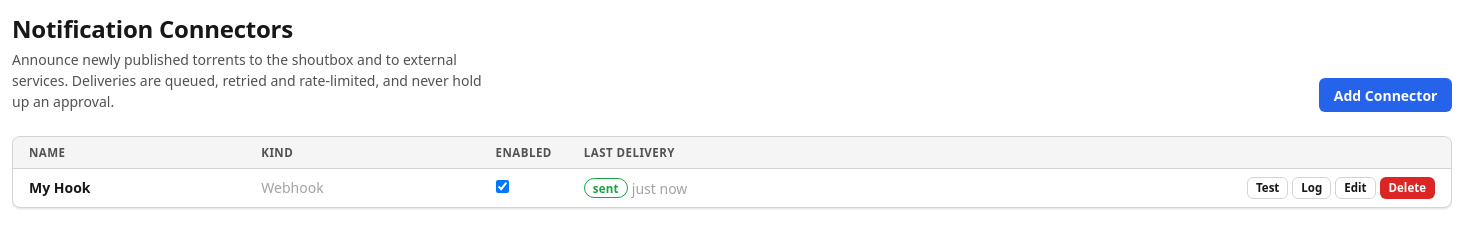
AdminConnectorsPage › a successful test send is reported
Click the button "Test".
click(1268, 188)  # box x1=1247 y1=177 x2=1288 y2=199
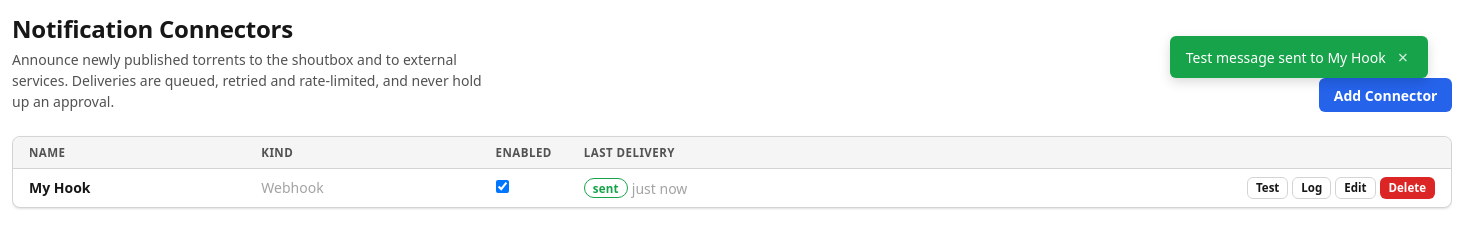
Now the text "Test message sent to My Hook" is shown, box x1=1186 y1=48 x2=1386 y2=66
